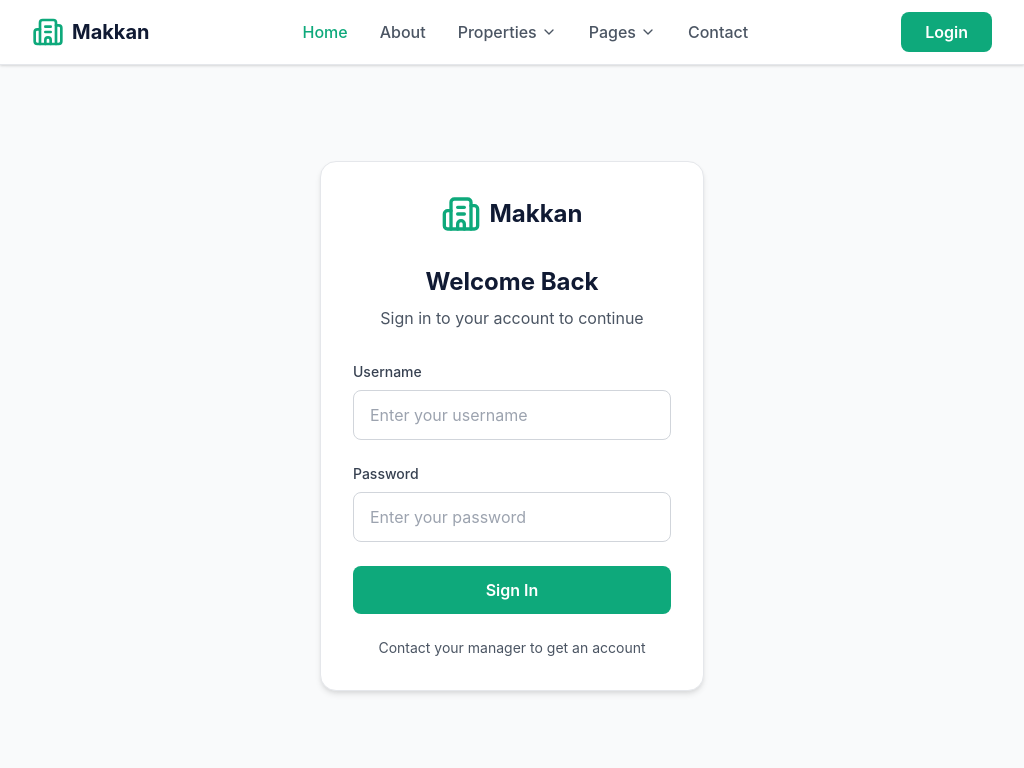
Login Component › shows error message on failed login
Step 1. Type "wronguser" into the field labelled "Username" → (512, 415), box [353,390,671,440]
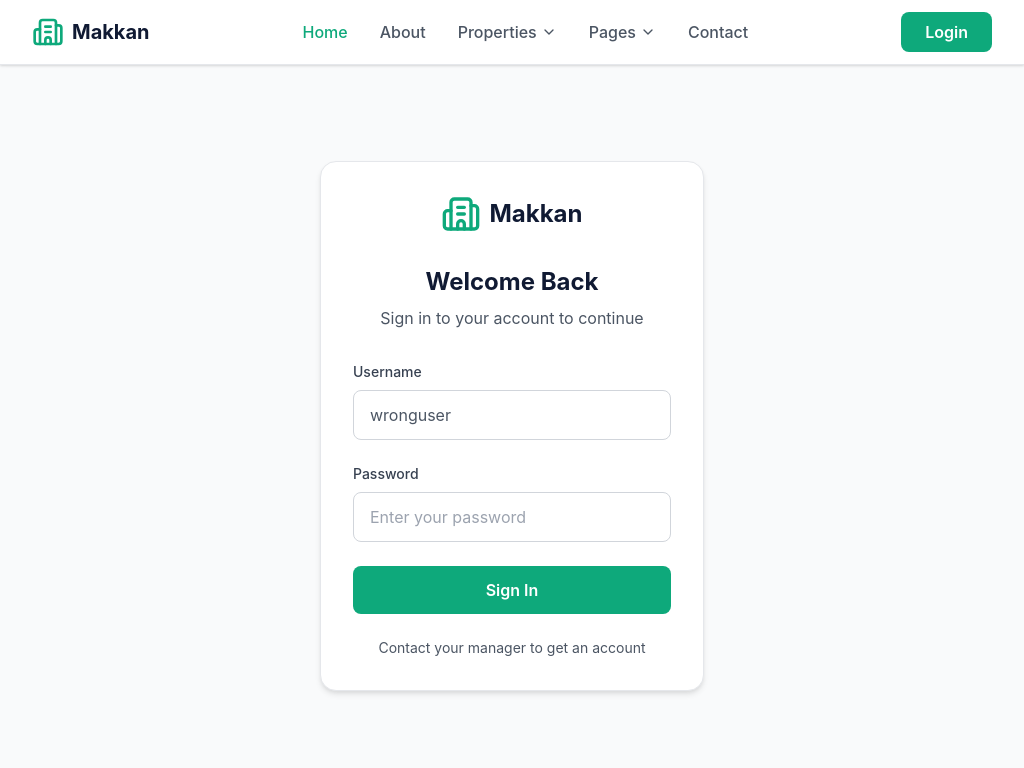
Step 2. Type "wrongpass" into the password field labelled "Password" → (512, 517), box [353,492,671,542]
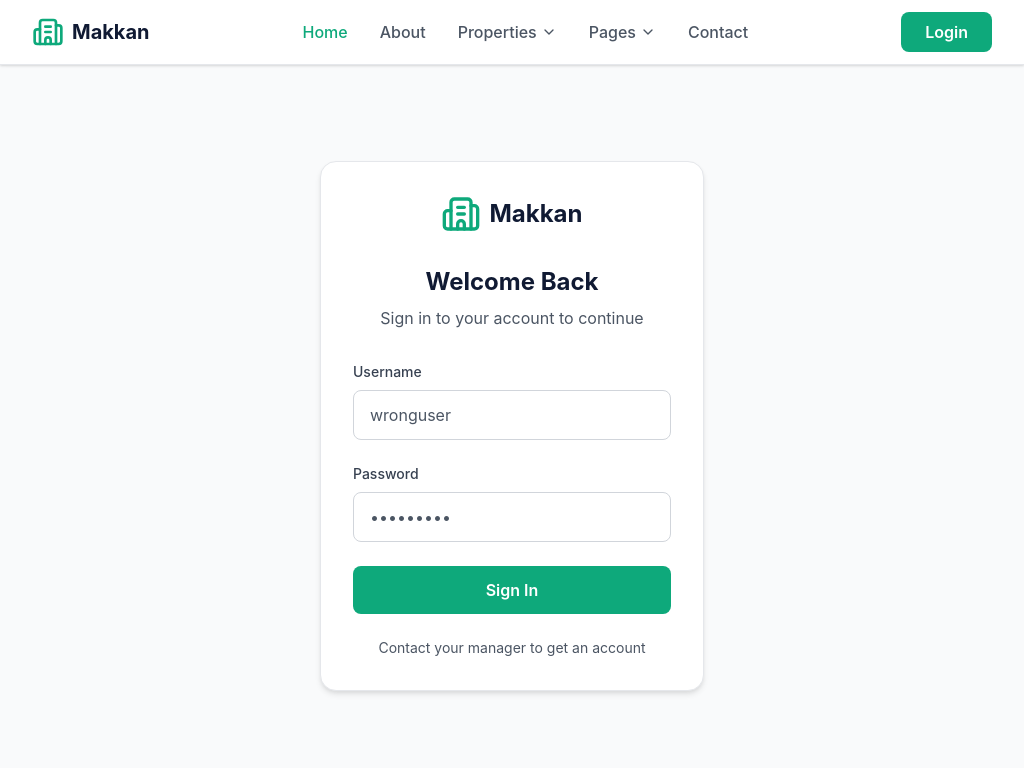
Step 3. Click the button "Sign In" → (512, 590), box [353,566,671,614]
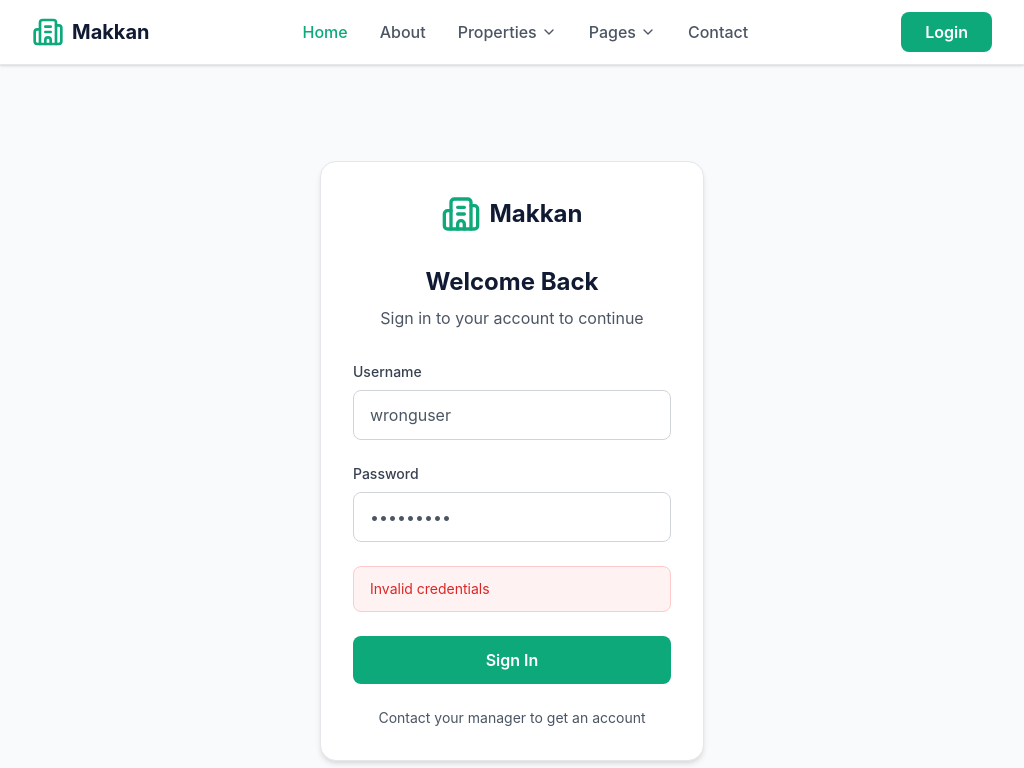
Now the text "Invalid credentials" is shown, box [353,566,671,612]
